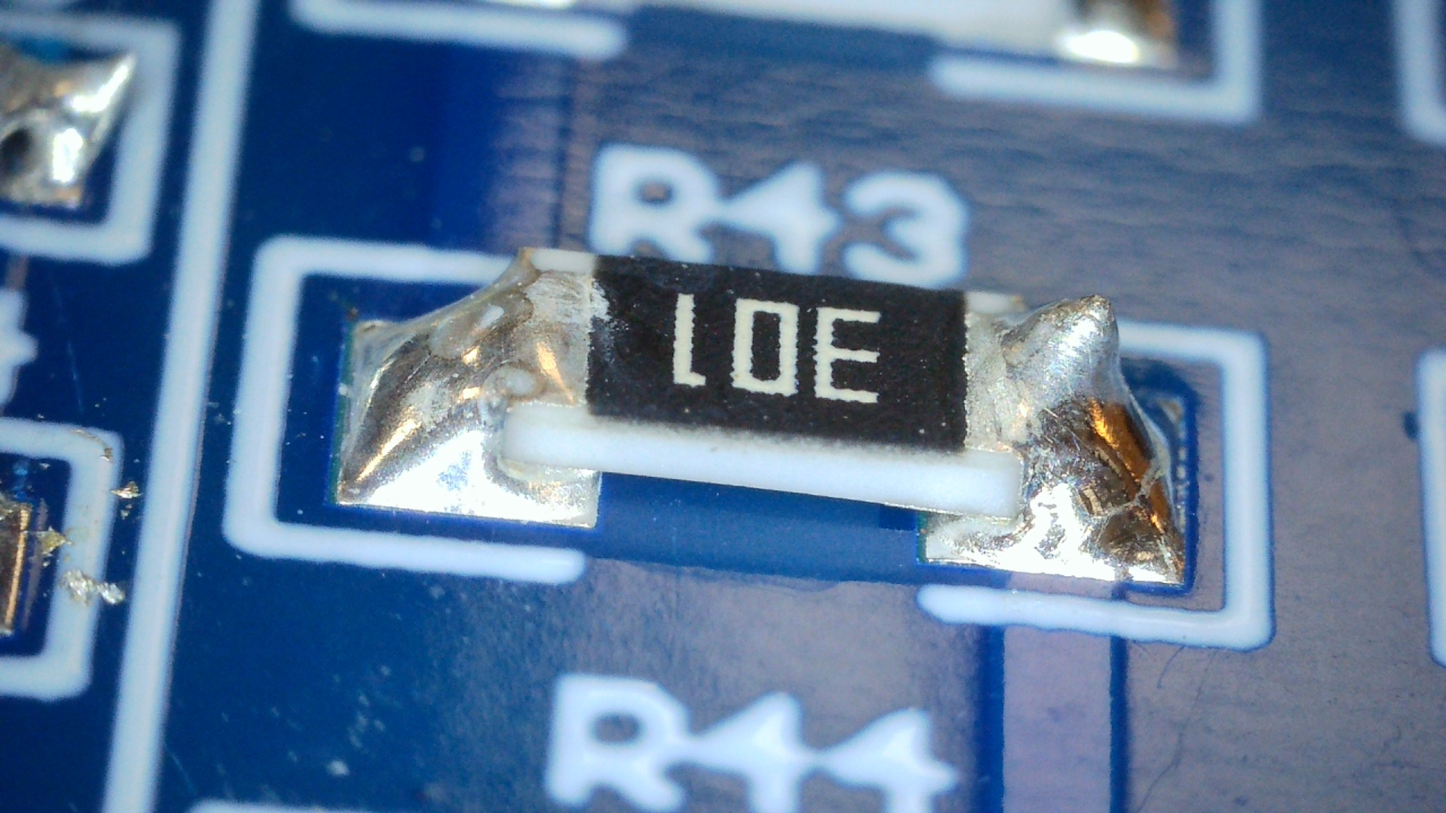NG: (944, 296, 1183, 581)
OK: (337, 246, 595, 523)
